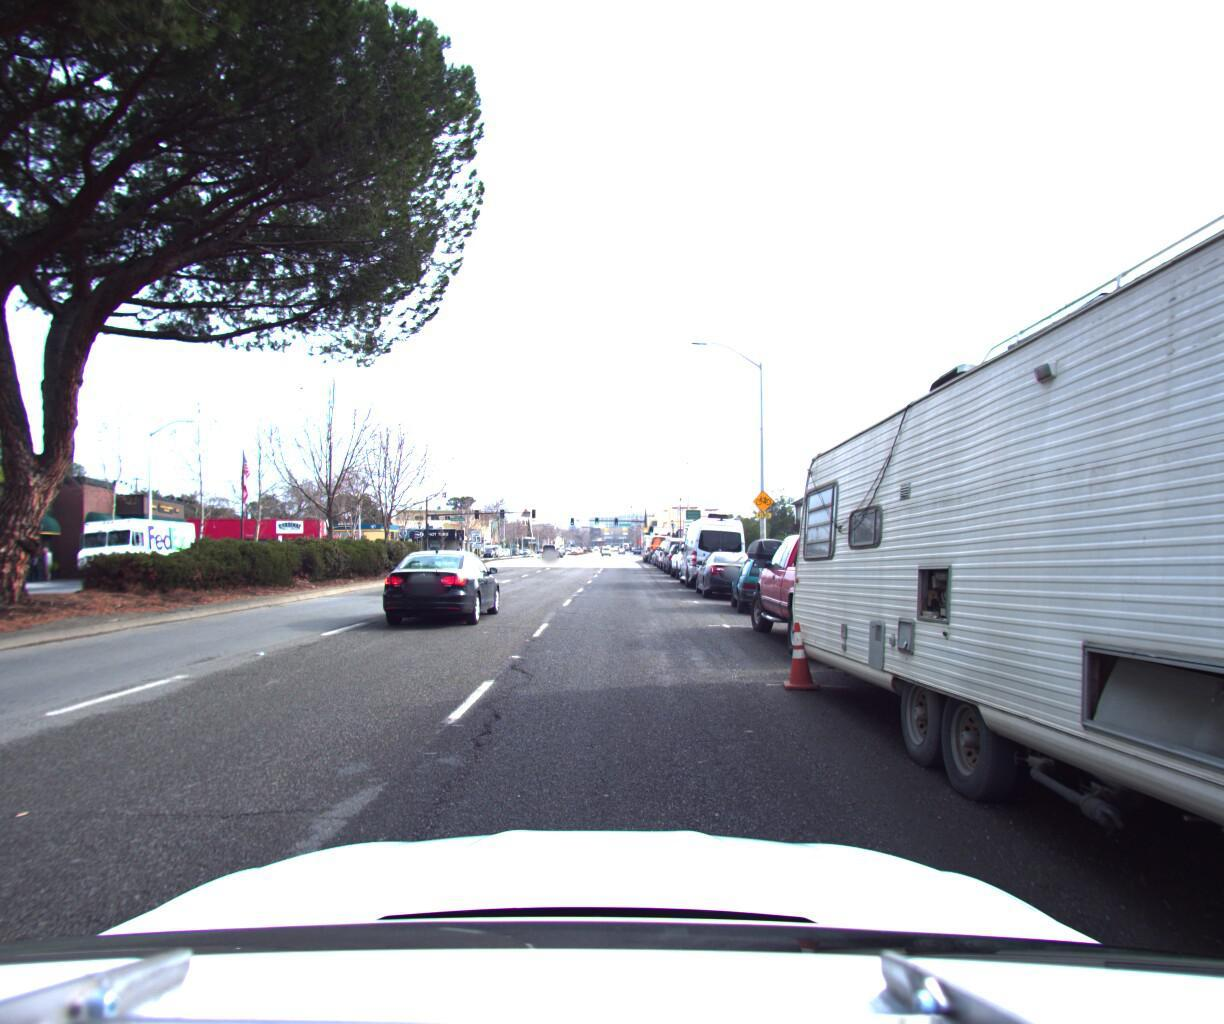car: (746, 529, 967, 676), (378, 541, 505, 626), (728, 532, 808, 612), (677, 508, 749, 588), (694, 543, 767, 596), (668, 535, 720, 576), (660, 526, 698, 566), (663, 534, 703, 568), (0, 550, 26, 590), (647, 527, 675, 555)
other_vehicle: (779, 53, 1224, 1024), (642, 522, 672, 556)
truck: (68, 510, 205, 580)
